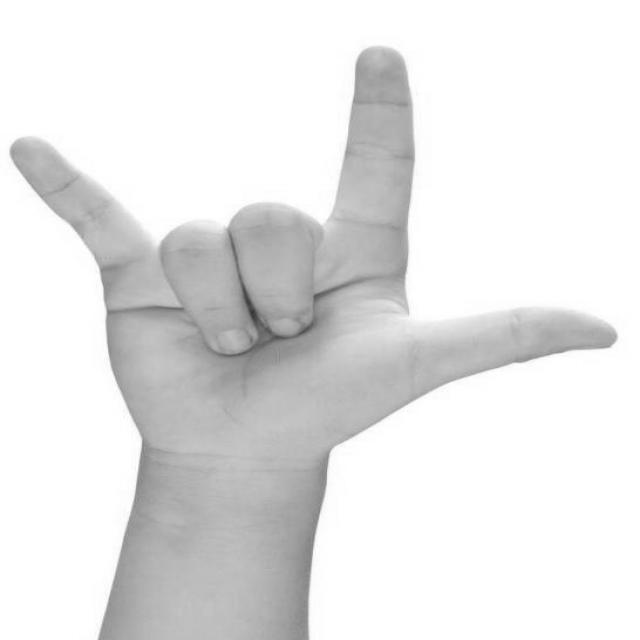i love you: (0, 31, 627, 543)
